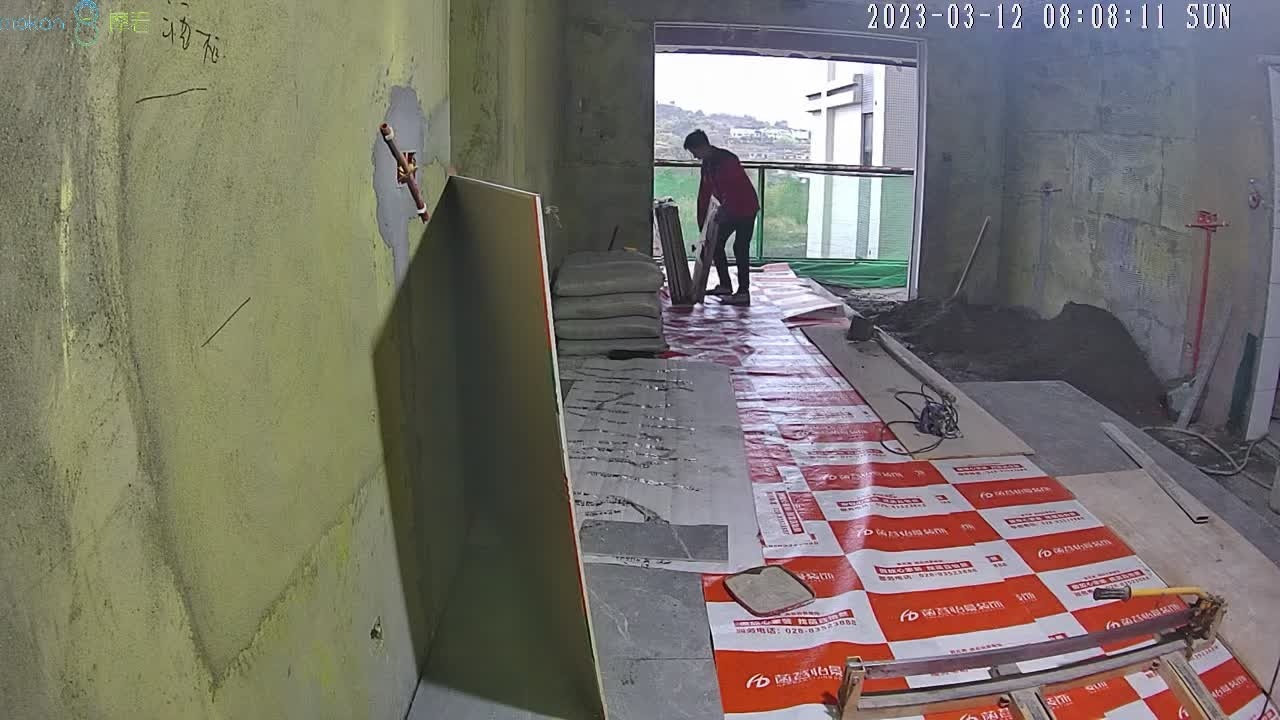people: (680, 128, 760, 305)
window: (657, 45, 922, 262)
